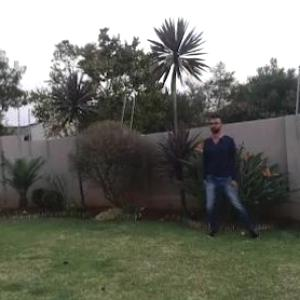follow: (202, 111, 240, 240)
